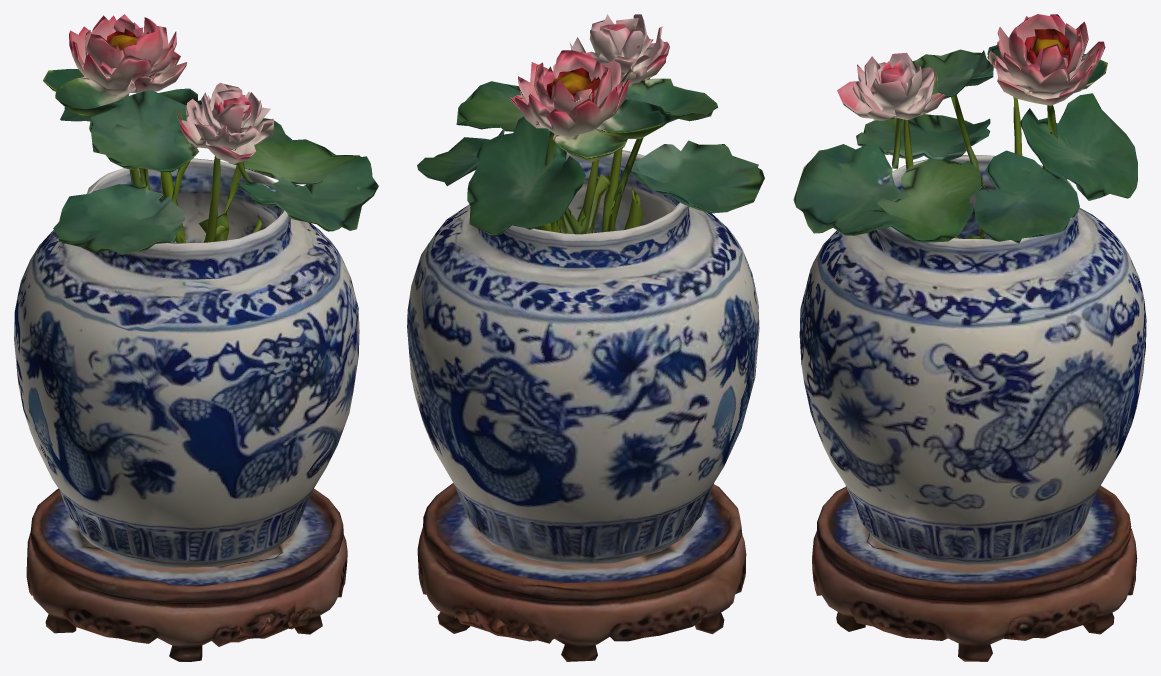
The model's file is yugang.glb.
The picture shows the model from 3 angles, left to right: view 1: azimuth 30°, elevation 25°; view 2: azimuth 150°, elevation 25°; view 3: azimuth 270°, elevation 25°; orthographic projection. The views are drawn at different scales.
Visible parts, largest first — view 1: tripo_node_dc233ba1-2cdb-471f-93b0-4728e16eee71; view 2: tripo_node_dc233ba1-2cdb-471f-93b0-4728e16eee71; view 3: tripo_node_dc233ba1-2cdb-471f-93b0-4728e16eee71.
Boxes of the visible parts, x1=… form: tripo_node_dc233ba1-2cdb-471f-93b0-4728e16eee71: x1=14, y1=14, x2=378, y2=661; tripo_node_dc233ba1-2cdb-471f-93b0-4728e16eee71: x1=407, y1=14, x2=764, y2=661; tripo_node_dc233ba1-2cdb-471f-93b0-4728e16eee71: x1=793, y1=14, x2=1146, y2=661.
Bounding box in the file's own units: 0.5642 × 1 × 0.5758.
1 material, 1 textured.
